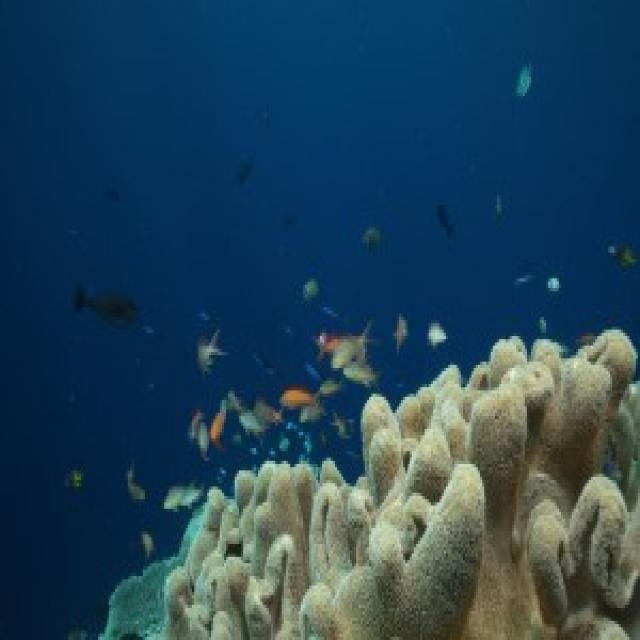Bleached: (166, 324, 640, 640)
